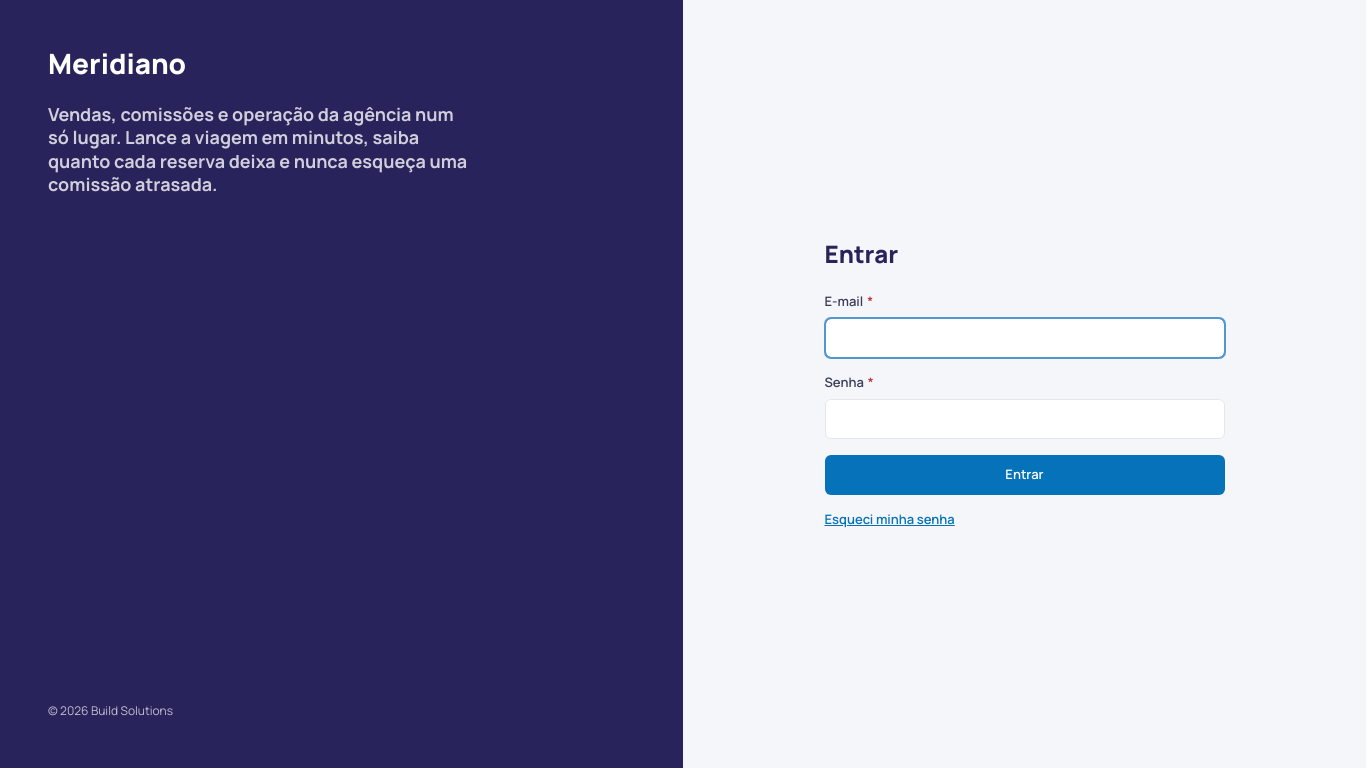
Test: senha errada mostra o texto do protótipo
Type "a@b.com" into the field labelled "E-mail *".
click(1024, 338); type("a@b.com")  # box 824,318 -> 1224,358
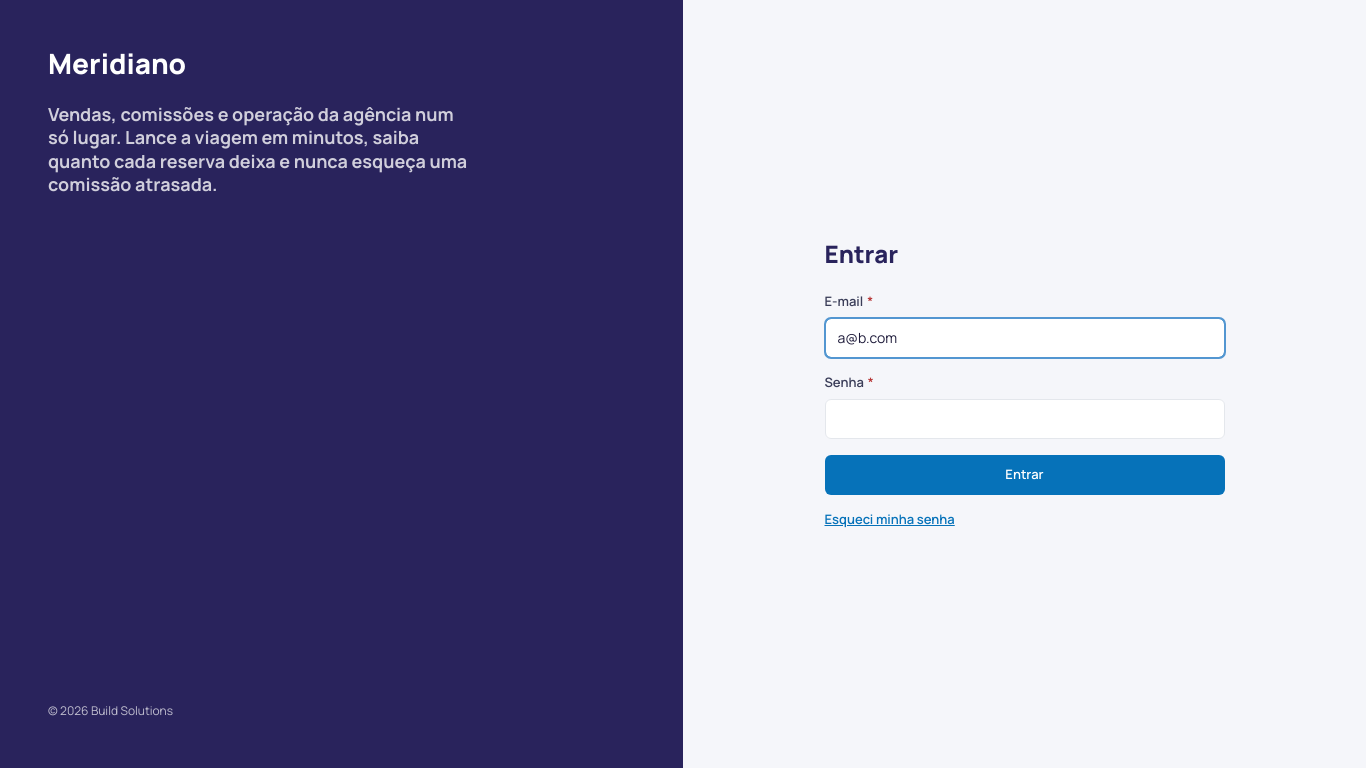
Type "errada" into the password field labelled "Senha *".
click(1024, 419); type("errada")  # box 824,399 -> 1224,439
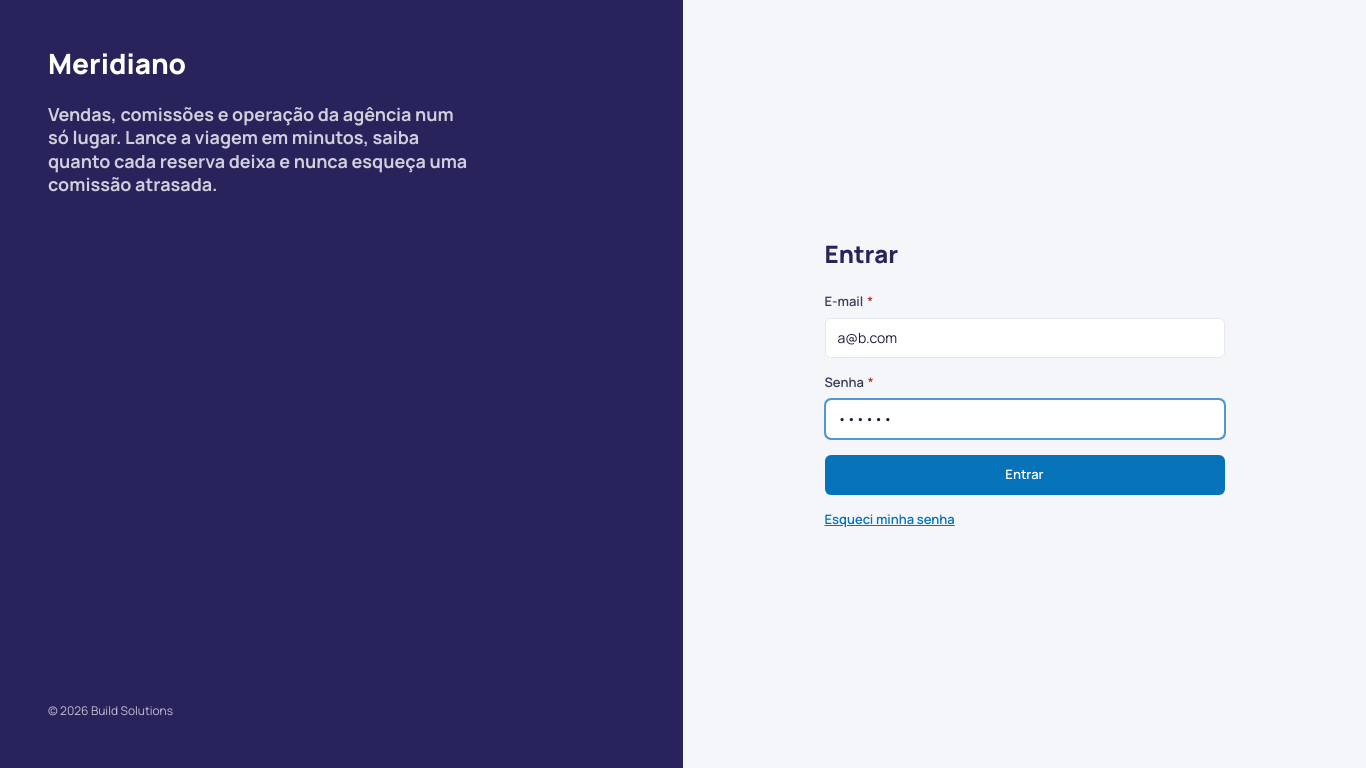
Click the button "Entrar".
click(1024, 475)  # box 824,455 -> 1224,495
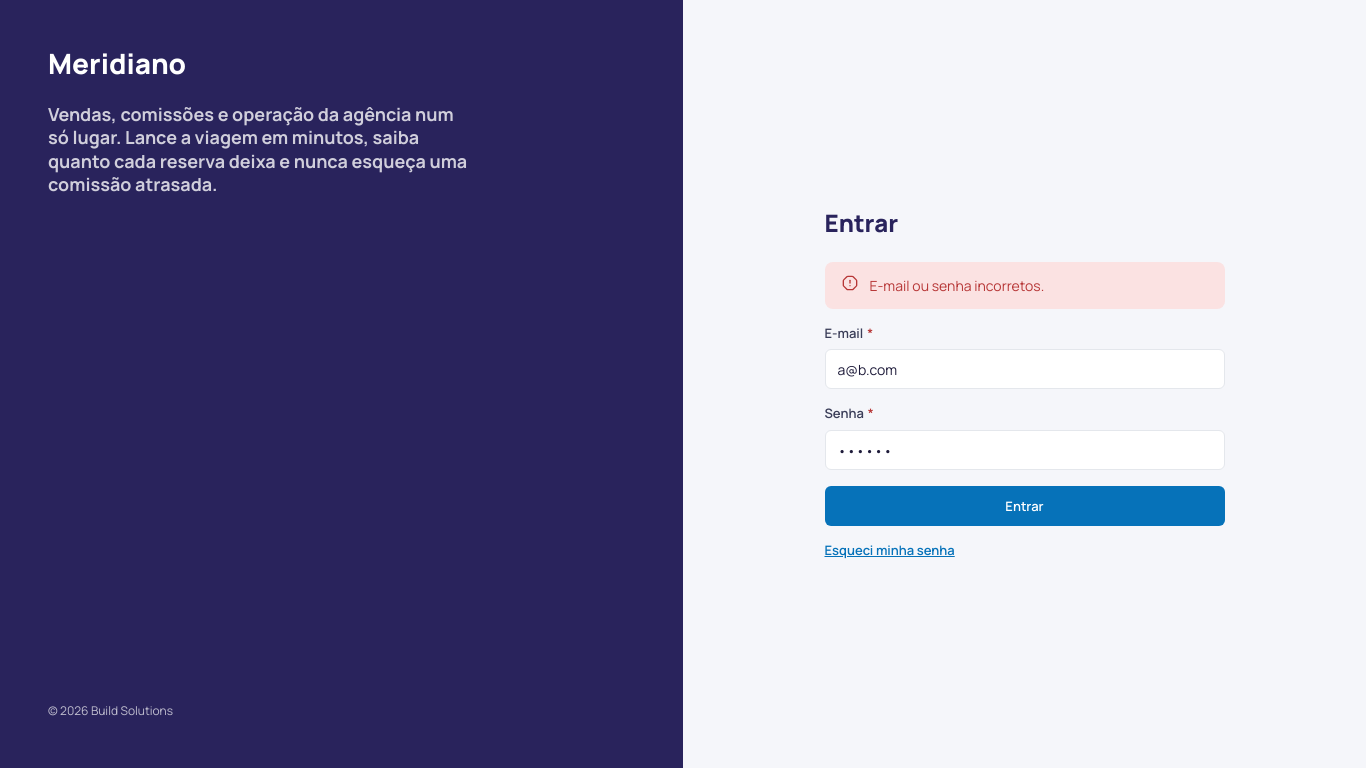
Check: the message reads "E-mail ou senha incorretos.", box 870,276 -> 1044,295
